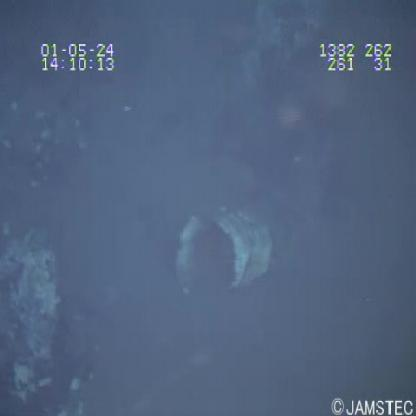Rác: (172, 202, 276, 300)
